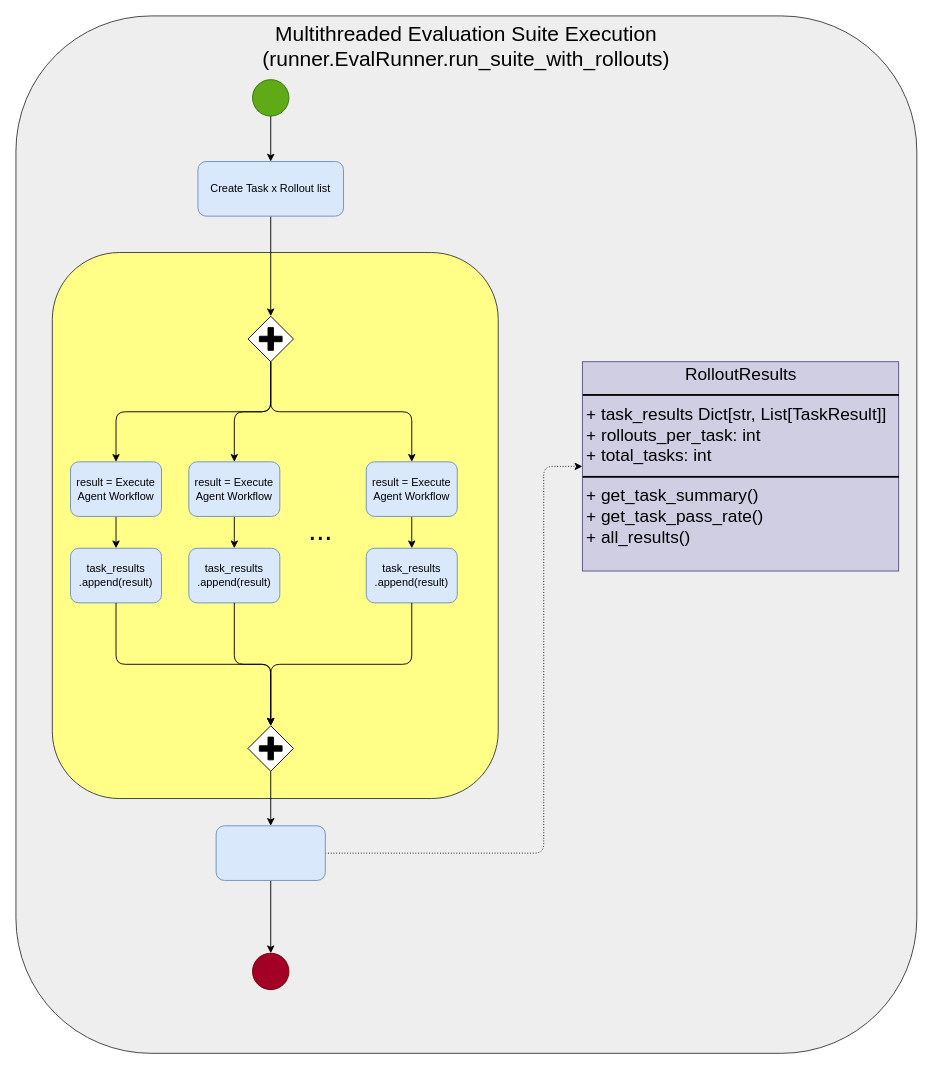
The diagram is 933 pixels wide and 1069 high, and some of its shapes have lost their labels. The shapes that lost their labels are listed below. From the top down, each one's box as (x1, y1, x2, y2) in pixels, then its label:
(252, 79, 289, 116): Start
(51, 252, 498, 799): ThreadPoolExecutor
(215, 825, 325, 880): Create Final Results using task_results
(252, 952, 289, 990): End
